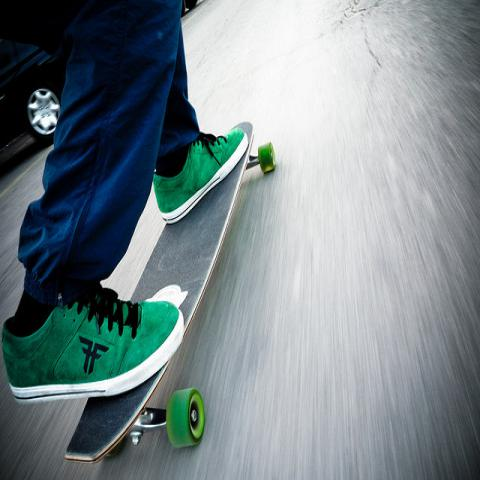car: (0, 40, 63, 154)
